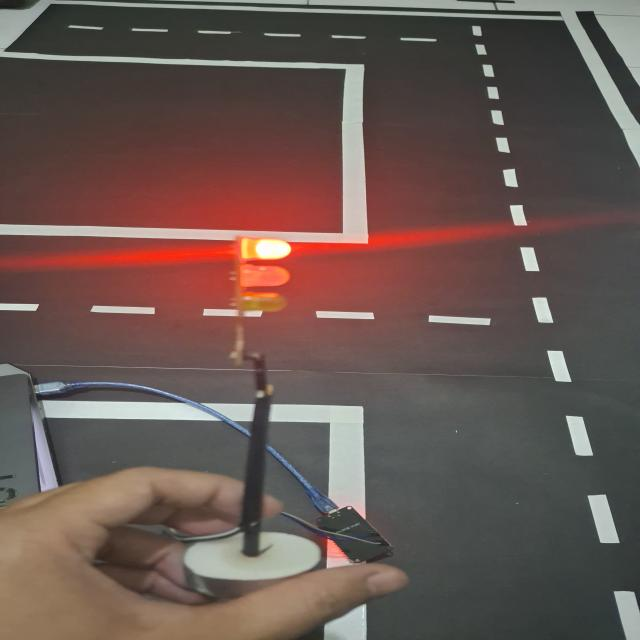Lampu Merah: (230, 236, 294, 314)
